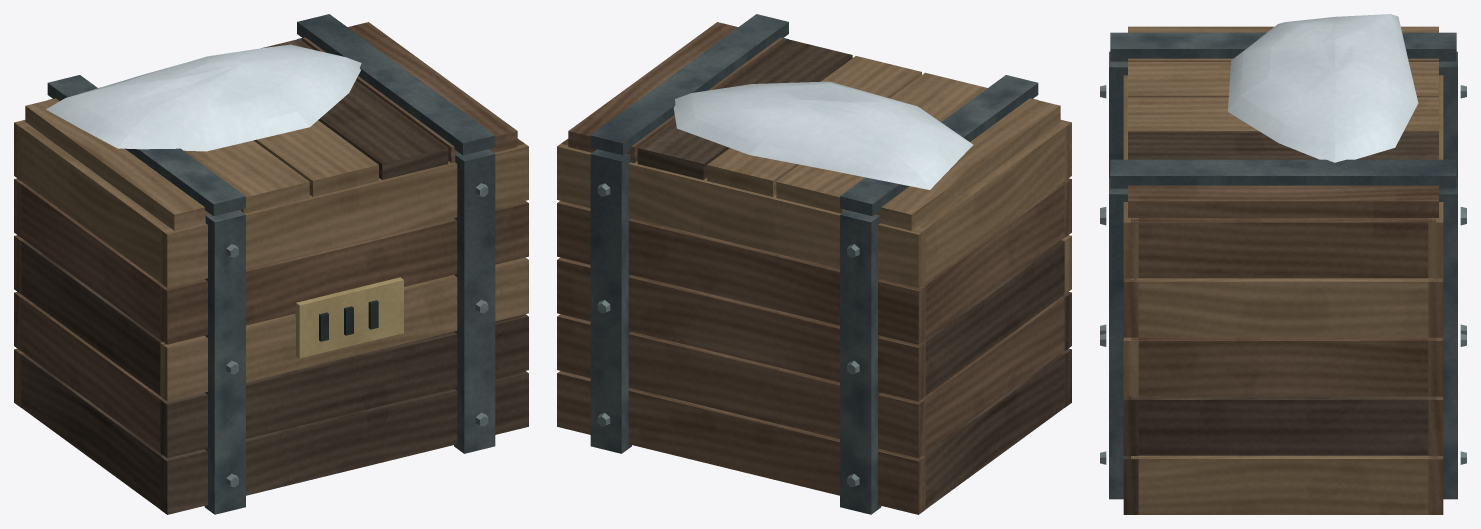
Rendered from 09_Supply_Crate.obj.
3 renders of one model, left to right at view 1: azimuth 30°, elevation 25°; view 2: azimuth 150°, elevation 25°; view 3: azimuth 270°, elevation 25°, orthographic. The views are drawn at different scales.
Visible parts, largest first — view 1: 09_Supply_Crate; view 2: 09_Supply_Crate; view 3: 09_Supply_Crate.
Boxes of the visible parts, x1,y1,x2,y2 form: 09_Supply_Crate: (14,14,528,514); 09_Supply_Crate: (557,14,1071,514); 09_Supply_Crate: (1100,14,1466,514).
Bounding box in the file's own units: 0.814 × 0.7294 × 0.686.
8 materials, 8 textured.
